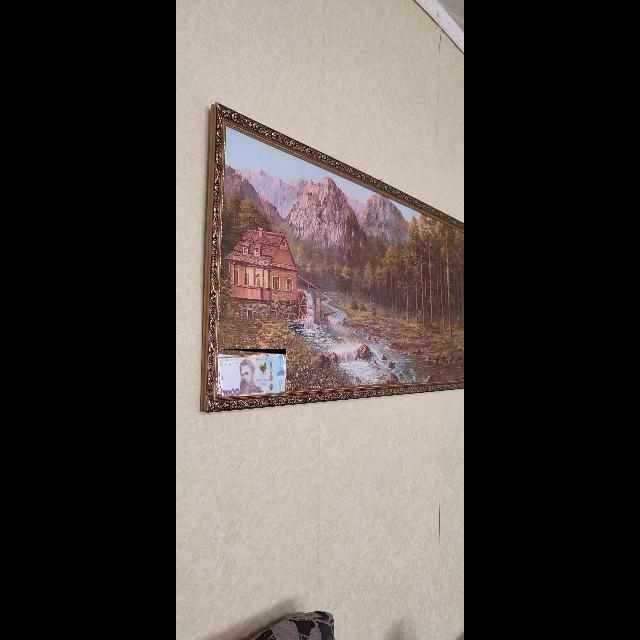1000uah: (219, 353, 287, 397)
